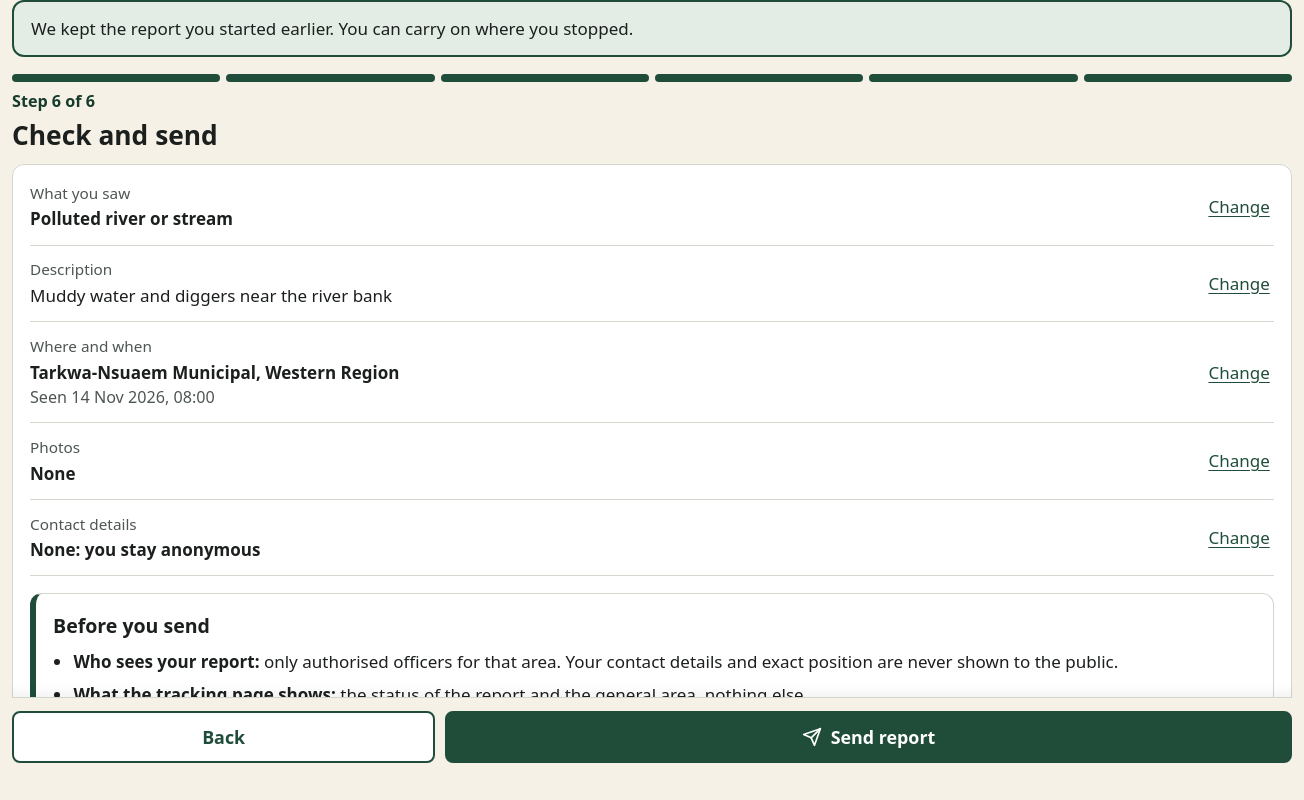
sending › keeps the report on the device when the connection keeps failing, and sends it later with the same key
The image size is (1304, 800).
Expected: the heading "Check and send" is shown, [12, 116, 218, 152]
Click the button "Send report" at point(869, 737), box [446, 711, 1292, 763]
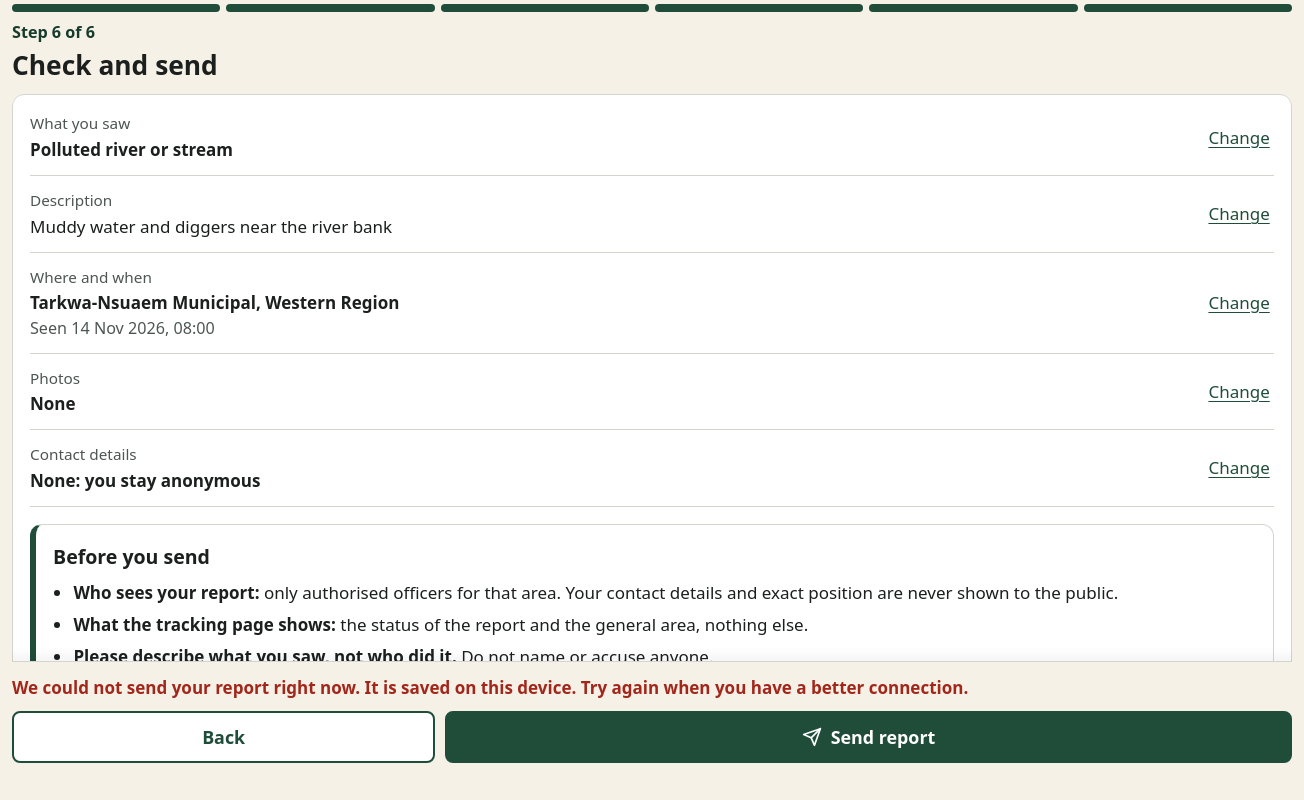
Result: the message shows "It is saved on this device" at [12, 676, 968, 698]
Click the button "Send report" at point(869, 737), box [446, 711, 1292, 763]
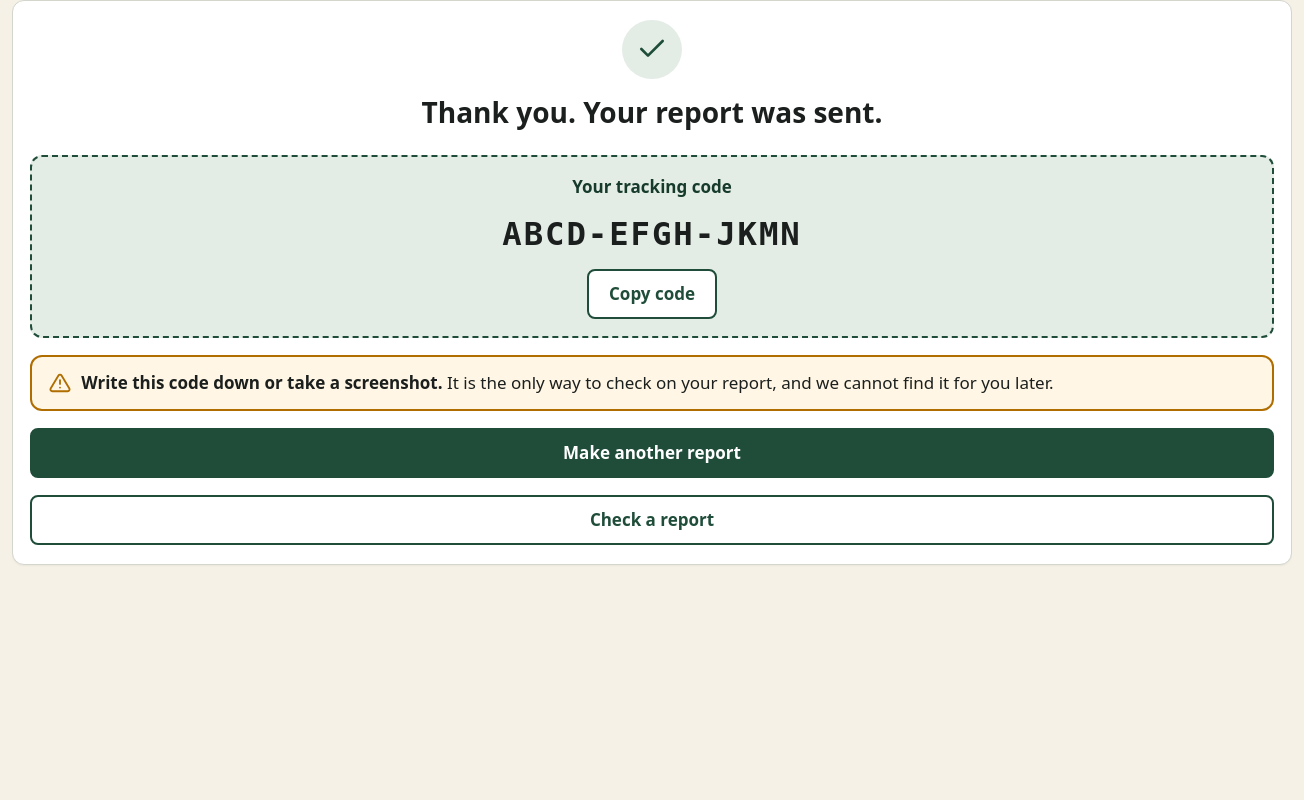
Result: the text "ABCD-EFGH-JKMN" is shown at [502, 210, 802, 258]
